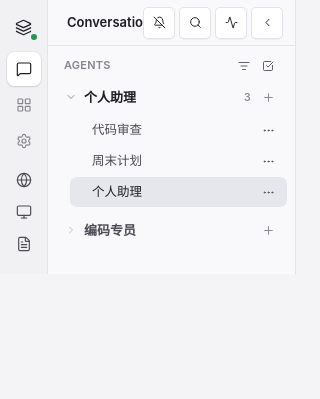
Sidebar 批量模式 DOM 行为：勾选框仅在会话子项，站位头部行仅切换子列表展开且不关抽屉
Click the button named "Manage conversations in bulk": (268, 66) [257,55,279,77]
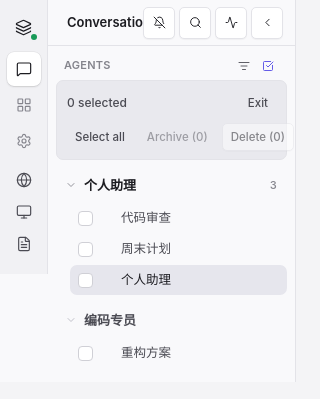
Expected: the 1st element with class "sidebar-batch-checkbox" is shown, [78,211,93,226]
Expected: the 2nd element with class "sidebar-batch-checkbox" is shown, [78,242,93,257]
Expected: the 3rd element with class "sidebar-batch-checkbox" is shown, [78,273,93,288]
Click the button with class "nav-item-main" showing "编码专员": (168, 320) [64,309,271,331]
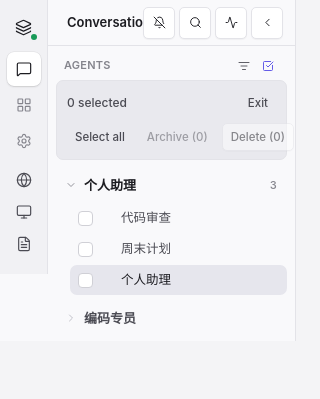
Note: 再次点击重新展开
Click the button with class "nav-item-main" showing "编码专员": (168, 318) [64,307,271,329]
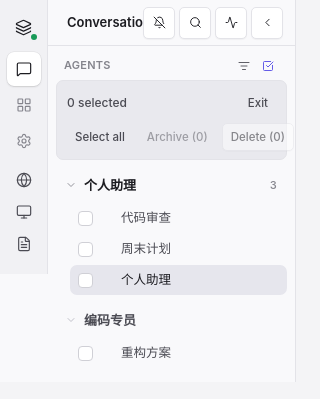
Expected: the element with class "agent-conversations-list" showing "重构方案" is shown, [78,342,271,364]
